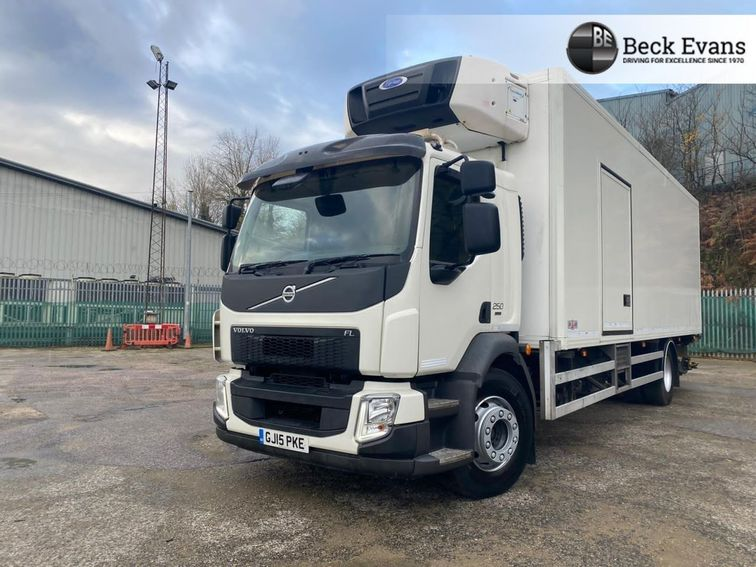Semi: (212, 54, 702, 499)
